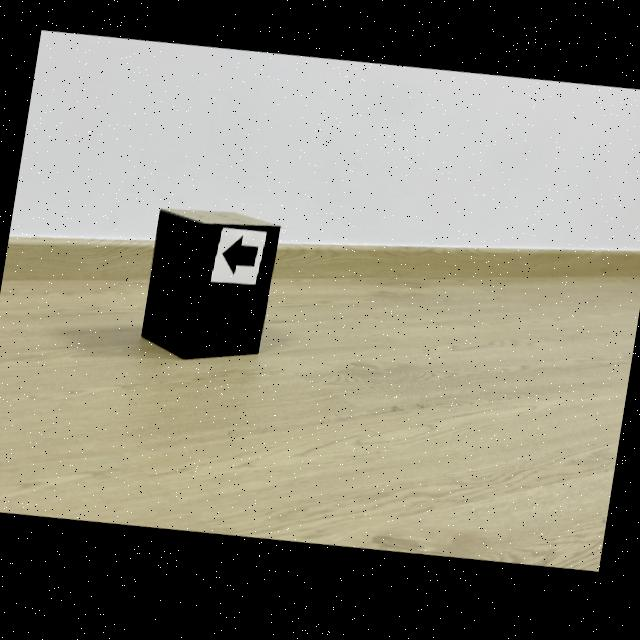LEFT: (222, 239, 258, 278)
